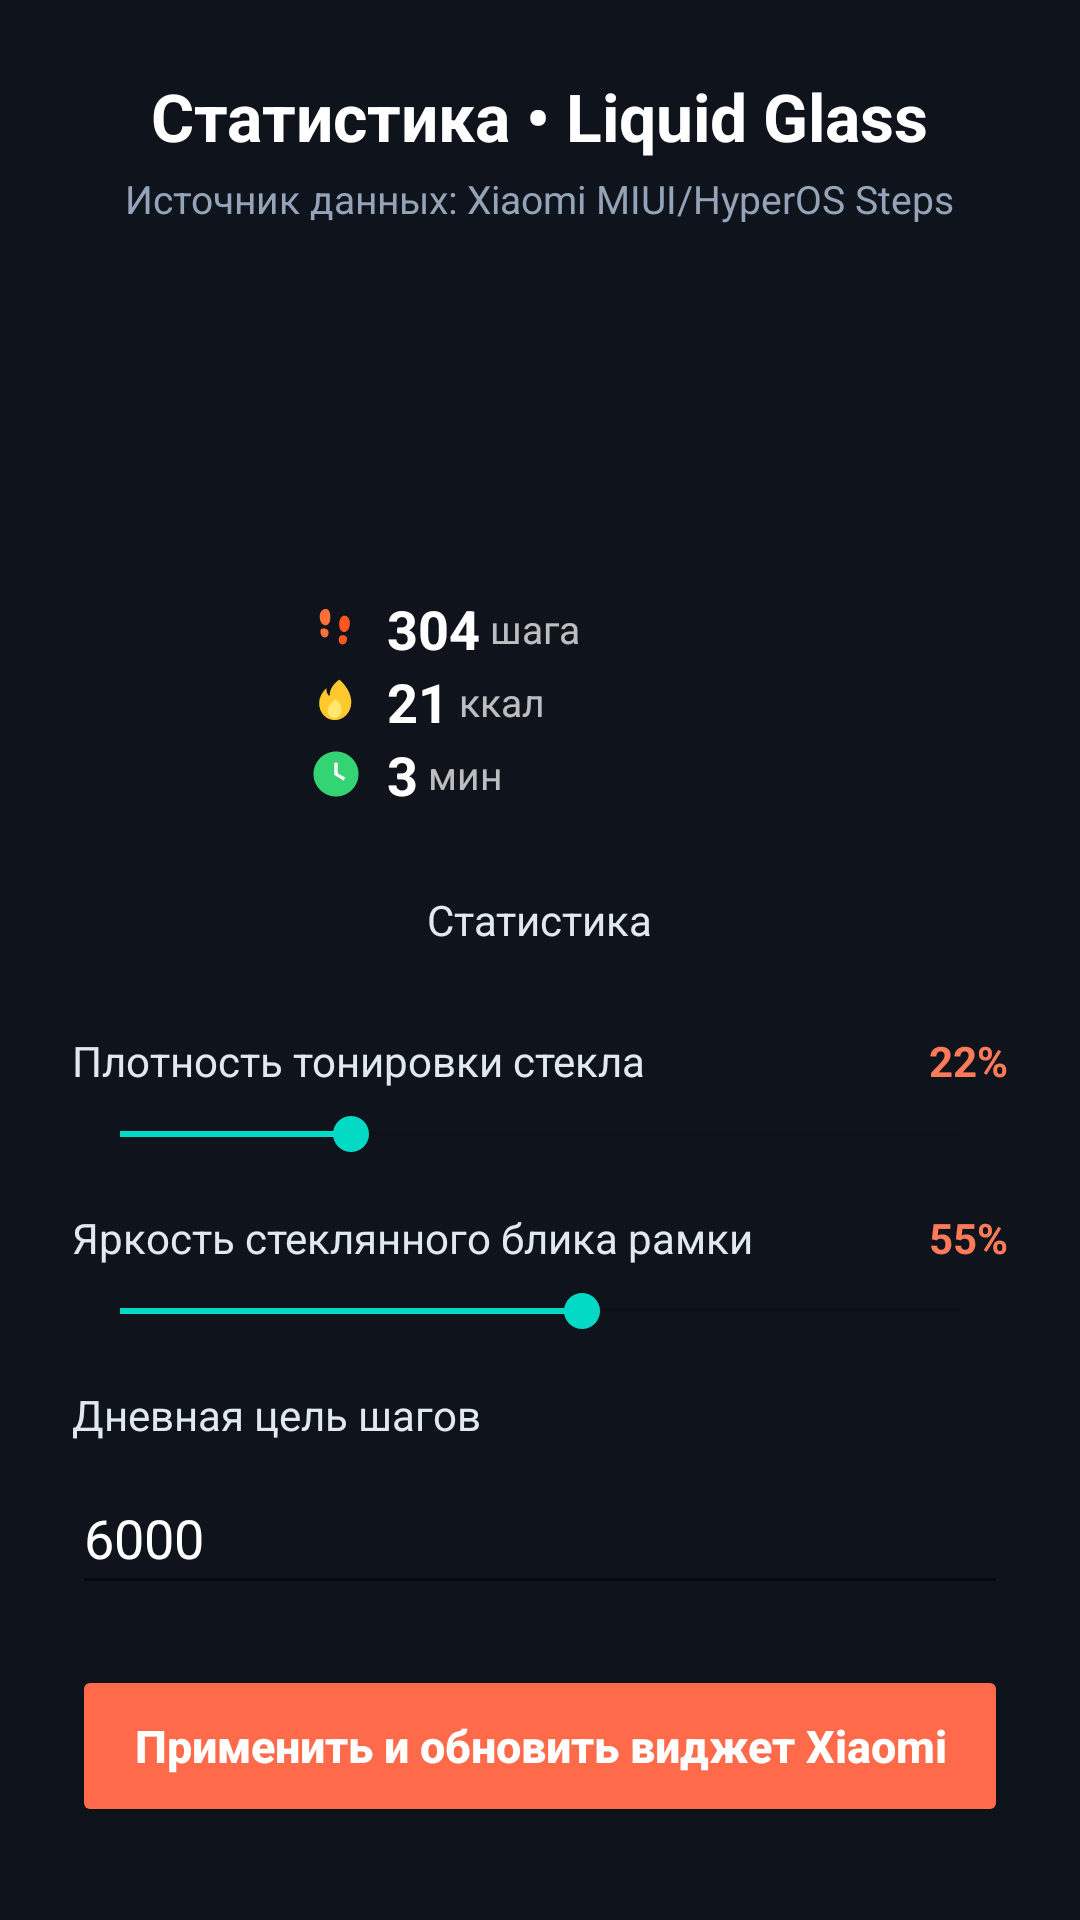

Icons on this 1080px×1920px Android screen, each with its box as [x1,y1,x2,y2]:
clock: [313,751,359,797]
fire: [319,679,352,720]
steps: [319,609,350,645]
